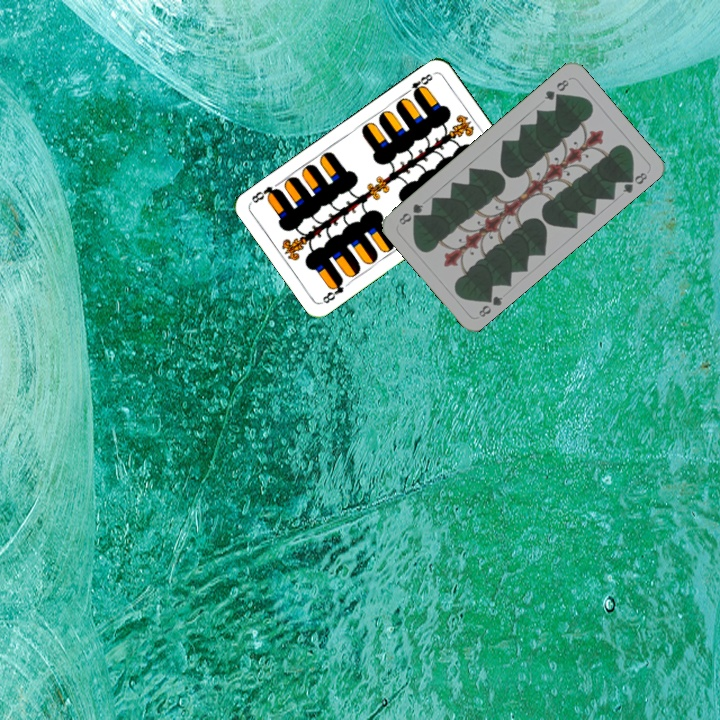E8: (401, 70, 435, 99), (318, 275, 346, 306)
G8: (474, 289, 506, 320), (540, 75, 572, 103)
